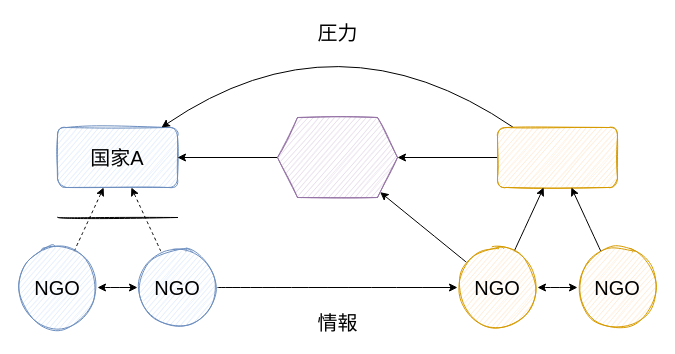
Some shapes in this 675 by 354 pixel diagram are drawn without their labels. Each missing label, with the centre of its shape:
国家B: [557,157]
国際機構: [337,157]
